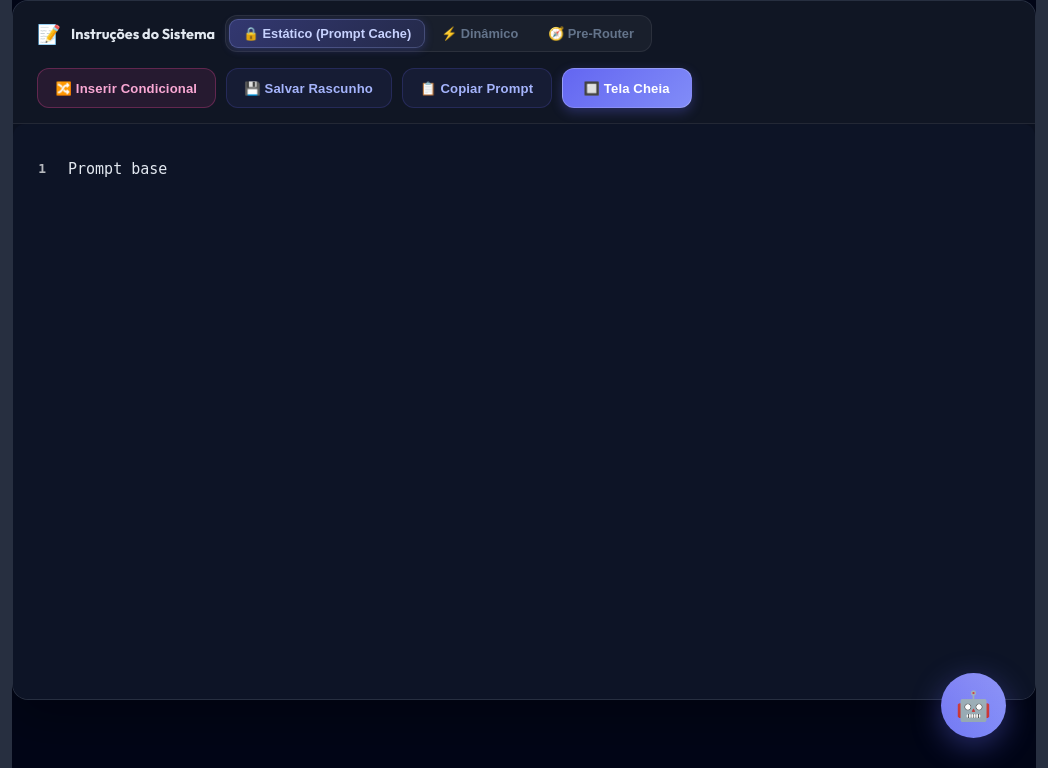
PromptAdvisor - Funcionalidade de Reset de Memória › deve limpar o histórico de mensagens ao clicar no botão de reset
Abre o Assistente
Click the button titled "Assistente de Prompt": (974, 706) [941,673,1006,738]
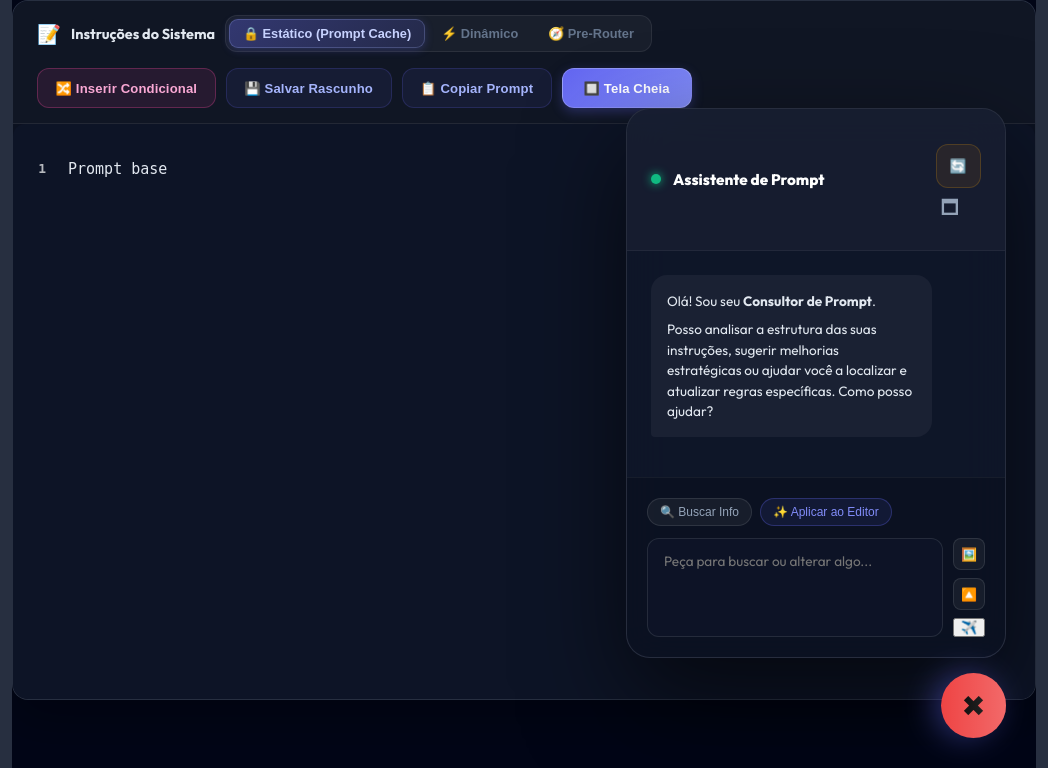
Expected: the text "Olá! Sou seu Consultor de Prompt." is shown, [667,292,876,310]
Envia uma mensagem
In the text box with placeholder "Peça para buscar ou alterar algo...": (795, 588) [647,538,943,637], type "Me ajude a melhorar este prompt"
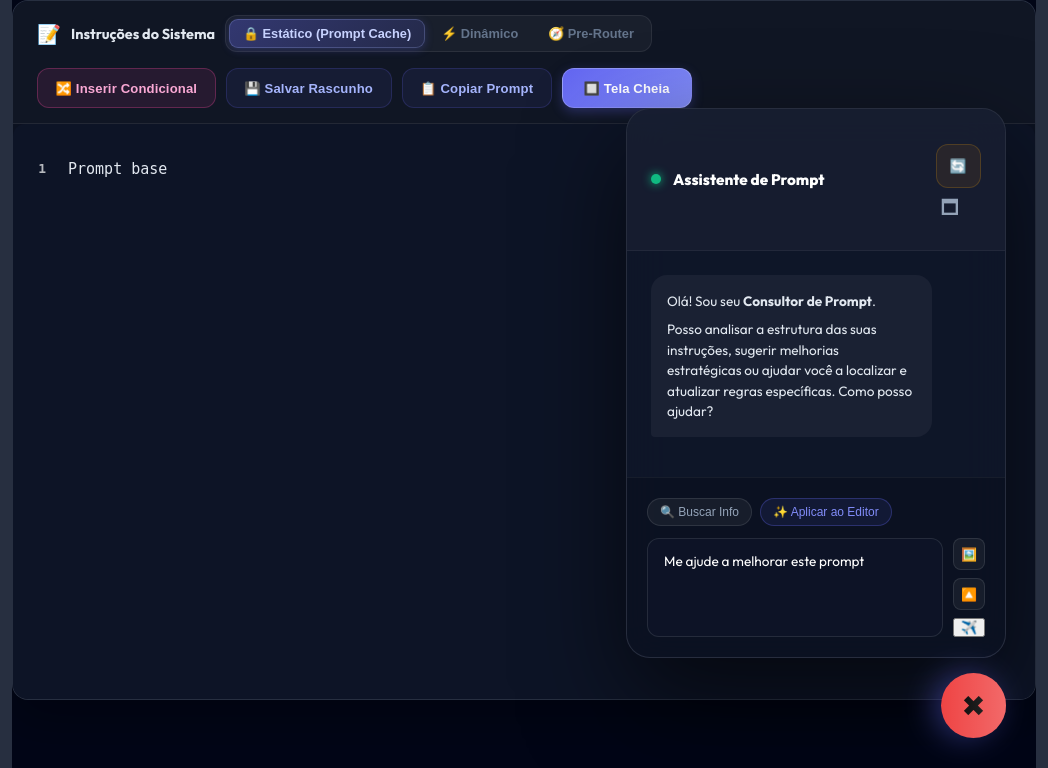
Botão de enviar é o '✈️'
Click the button "✈️": (969, 628) [953,618,985,637]
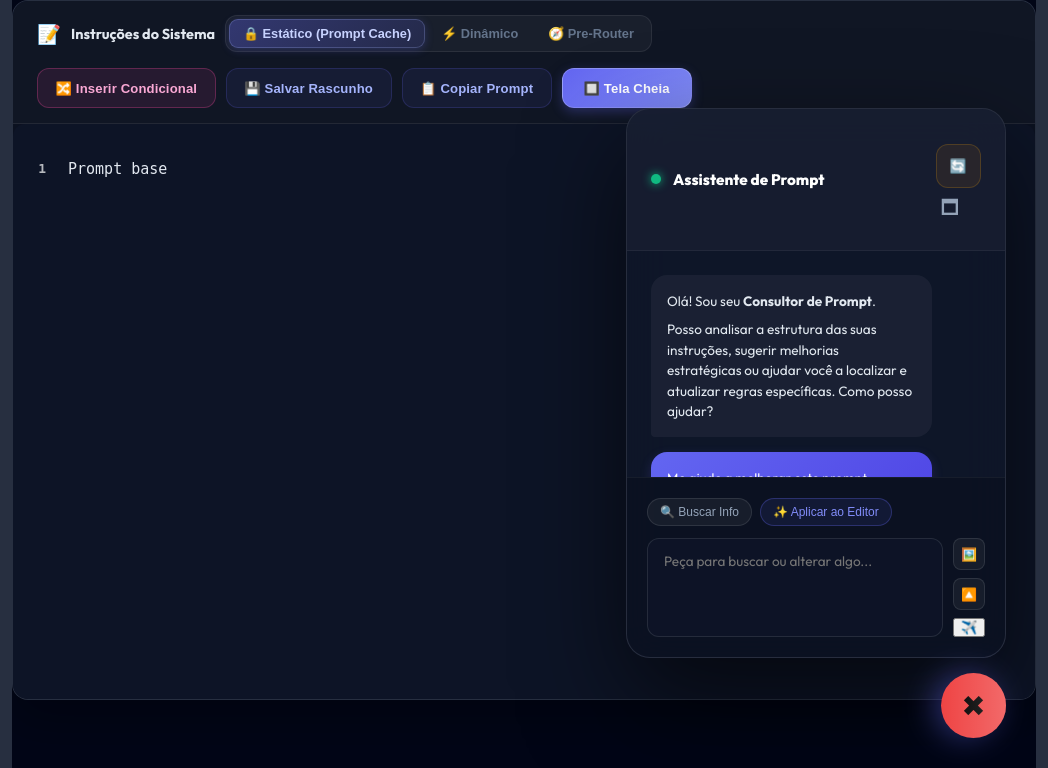
Agora clica no botão de Reset (🔄)
Click the button titled "Reiniciar Memória": (958, 166) [936,144,981,188]
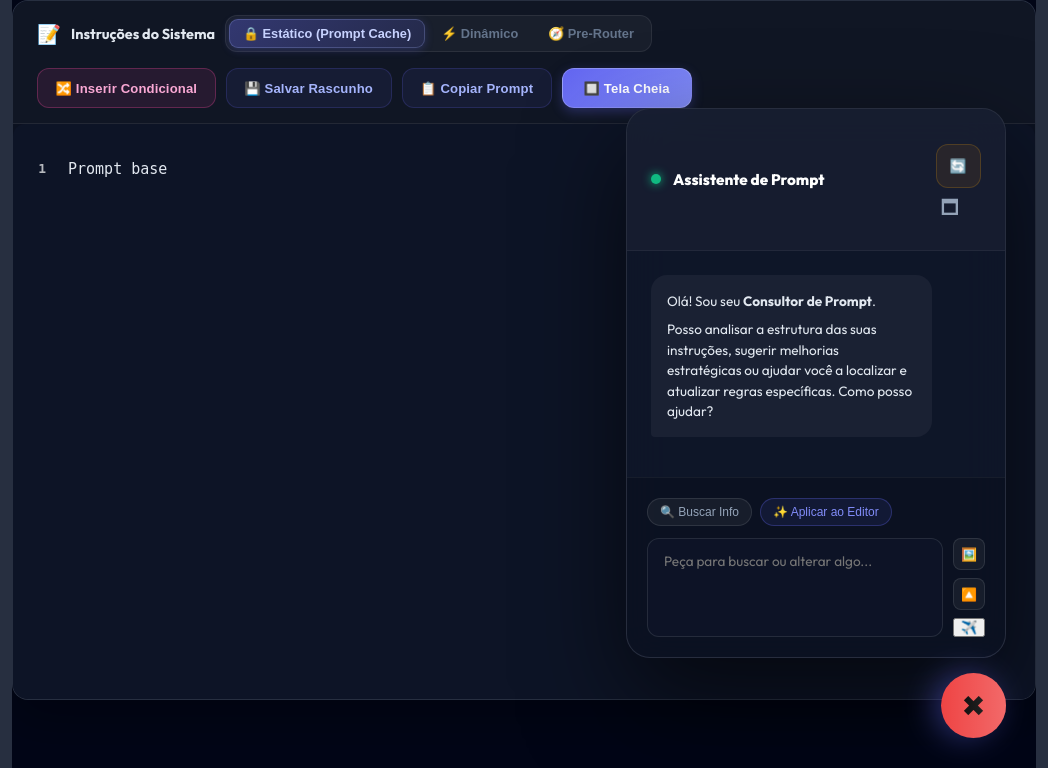
Expected: the text "Resposta do assistente" is not shown
Expected: the text "Olá! Sou seu Consultor de Prompt." is shown, [667,292,876,310]
Expected: the text "Me ajude a melhorar este prompt" is gone
